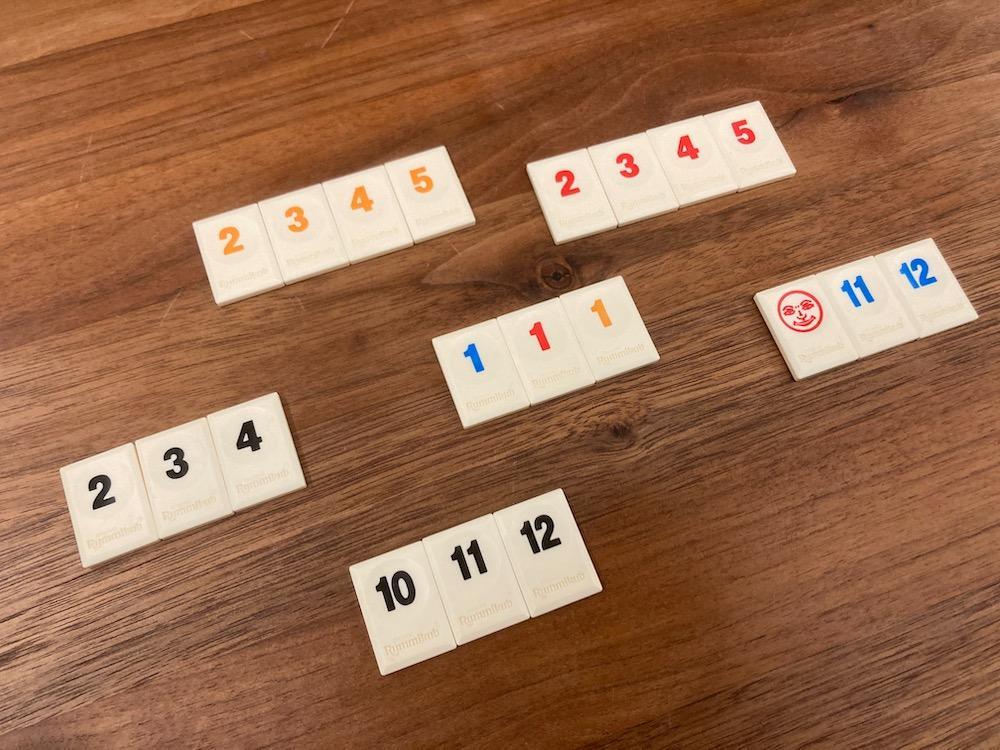black_10: (350, 541, 457, 675)
black_11: (422, 514, 529, 644)
black_12: (494, 488, 602, 616)
black_2: (61, 443, 158, 567)
black_3: (135, 418, 232, 538)
black_4: (207, 393, 305, 511)
blue_1: (432, 318, 529, 428)
blue_11: (816, 256, 916, 356)
blue_12: (875, 238, 979, 337)
joker: (754, 275, 859, 380)
orange_1: (561, 277, 658, 380)
orange_2: (193, 203, 283, 304)
orange_3: (258, 184, 350, 282)
orange_4: (322, 166, 412, 264)
orange_5: (385, 146, 475, 241)
red_1: (498, 299, 594, 403)
red_2: (527, 148, 617, 244)
red_3: (588, 133, 678, 224)
red_4: (646, 115, 736, 206)
red_5: (705, 102, 795, 190)
